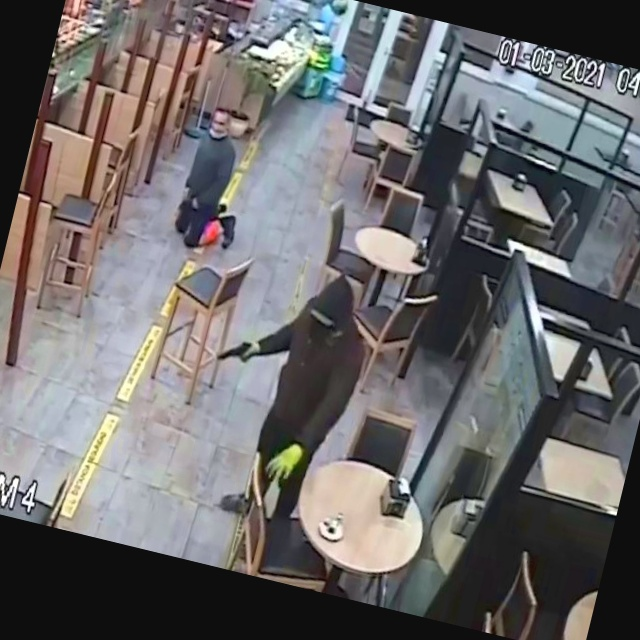gun: (193, 315, 272, 391)
